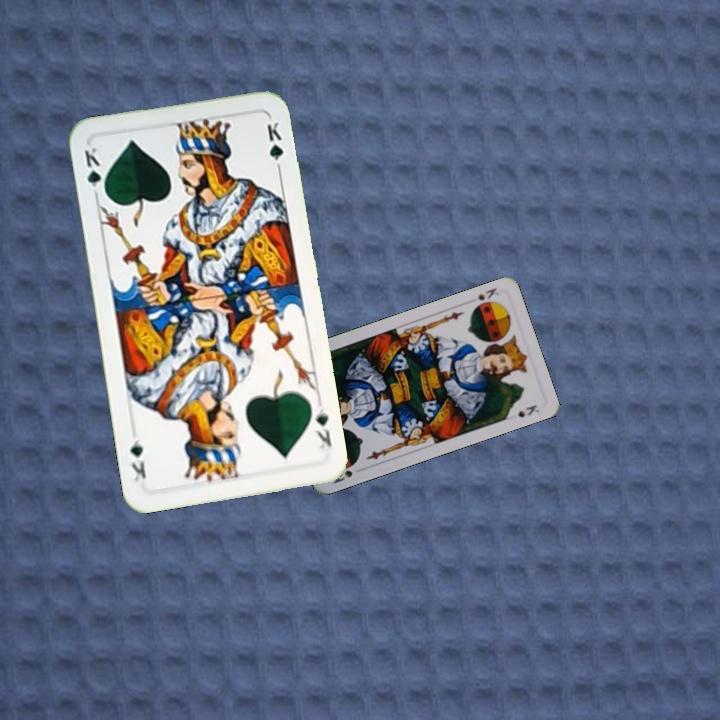GK: (80, 143, 109, 201), (311, 404, 334, 451)
SK: (469, 283, 502, 311)
